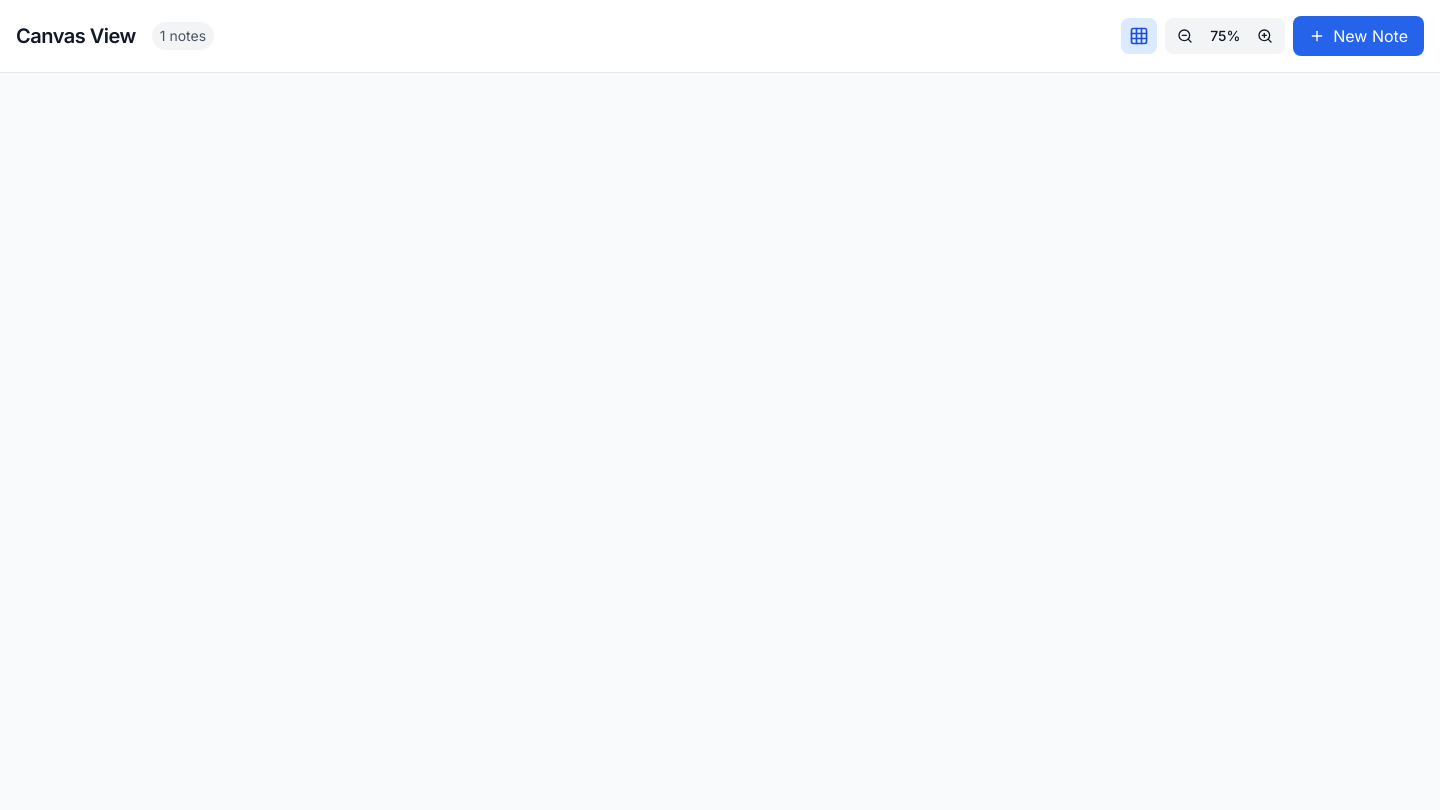
NotesCanvas › can open create note editor from toolbar
Click the button "New Note" at (1359, 36), box left=1293, top=16, right=1424, bottom=56
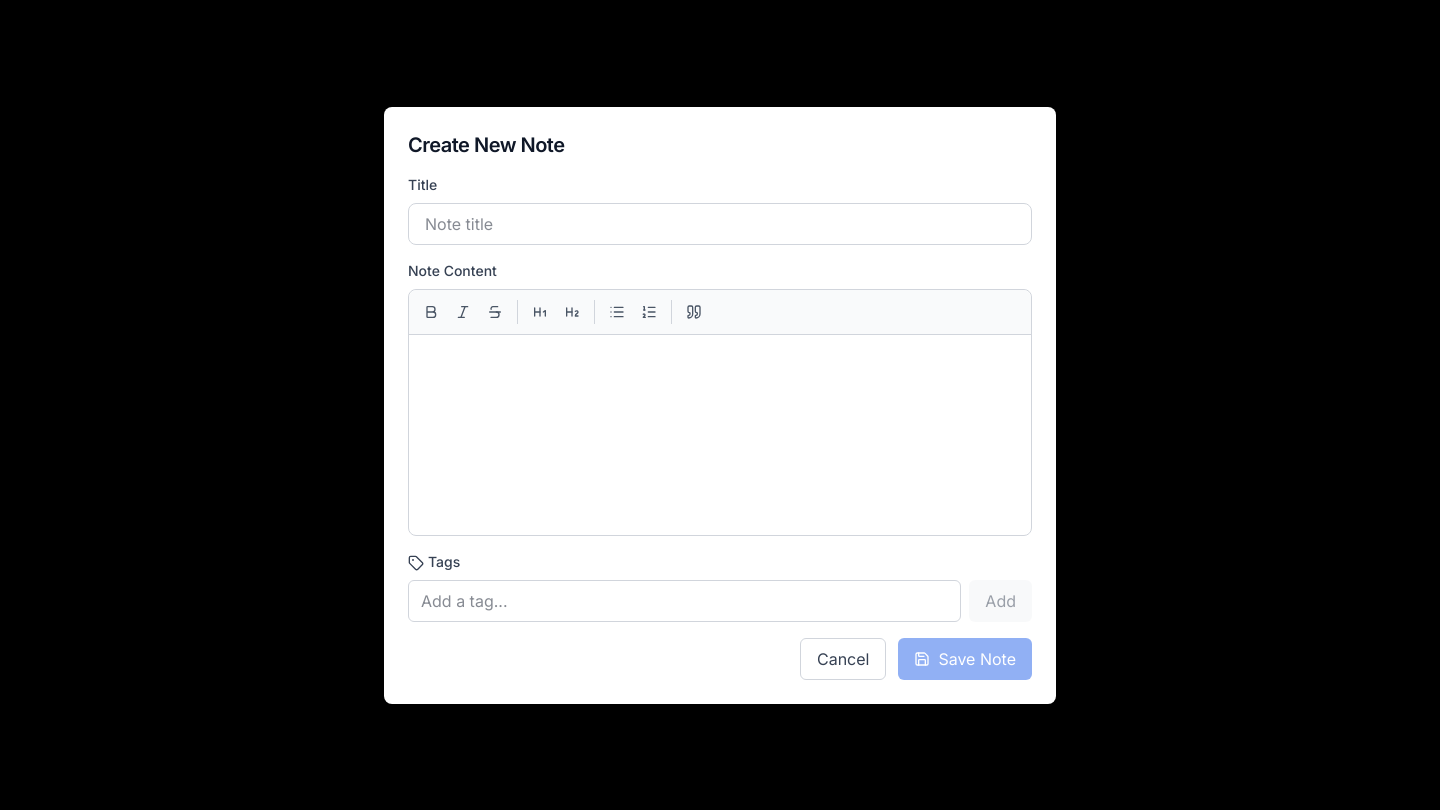
expect the heading "Create New Note" is shown: met, box left=408, top=132, right=565, bottom=156
